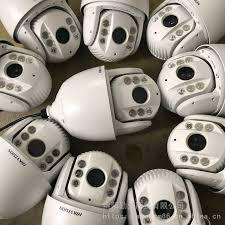maru: (56, 68, 164, 134), (42, 149, 126, 223), (148, 47, 225, 113), (4, 115, 65, 197), (128, 160, 201, 225), (80, 0, 147, 59), (16, 0, 84, 58), (166, 109, 225, 175), (1, 41, 53, 107), (146, 4, 221, 47)
